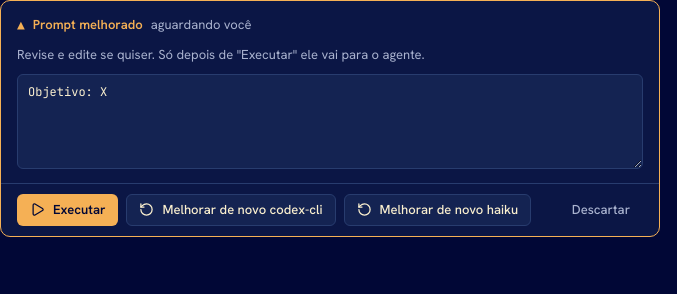
Scenario: ReviewCard › starts with the stored text, button says "Executar"; editing flips the label
The image size is (677, 294).
Expected: the button "Executar" is shown, [17,194,118,226]
Type "!" into the text box named "Prompt melhorado (editável)".
click(330, 121); type("!")  # box [17,74,643,169]
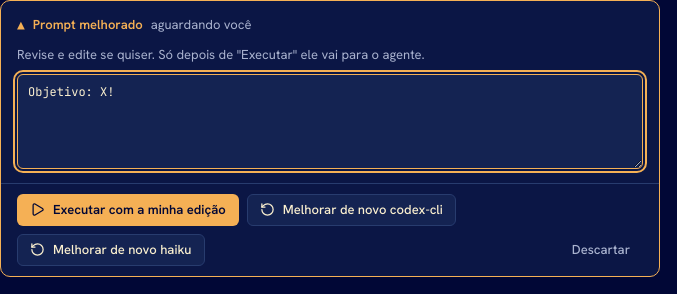
Expected: the button "Executar com a minha edição" is shown, [17,194,239,226]
